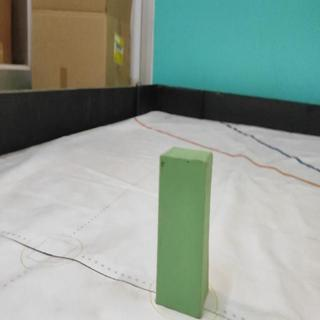greenbox: (155, 145, 214, 320)
